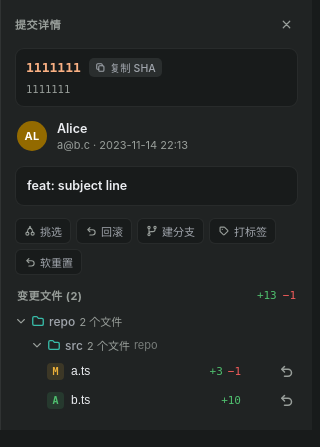
Test: CommitDetail（v0.8 / 8.2） › collapses a directory group and hides its files
What coordinates should you click on to do the following:
click the button with aria-label "折叠 src，2 个文件"
I would click on:
 (156, 345)
Its box is 15,333 -> 298,357.
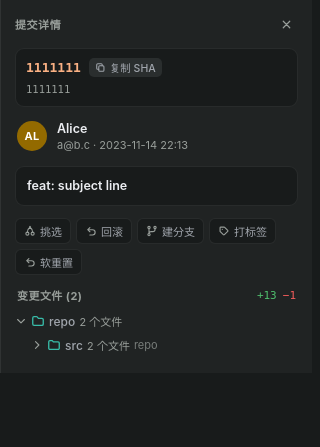
What coordinates should you click on to do the following:
click the button with aria-label "展开 src，2 个文件"
I would click on:
 (156, 345)
Its box is 15,333 -> 298,357.
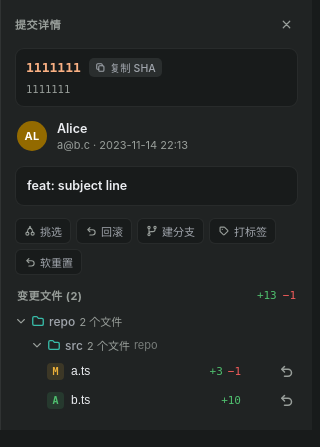
Check: the element titled "src/a.ts" is shown, box 71,364 -> 90,378
